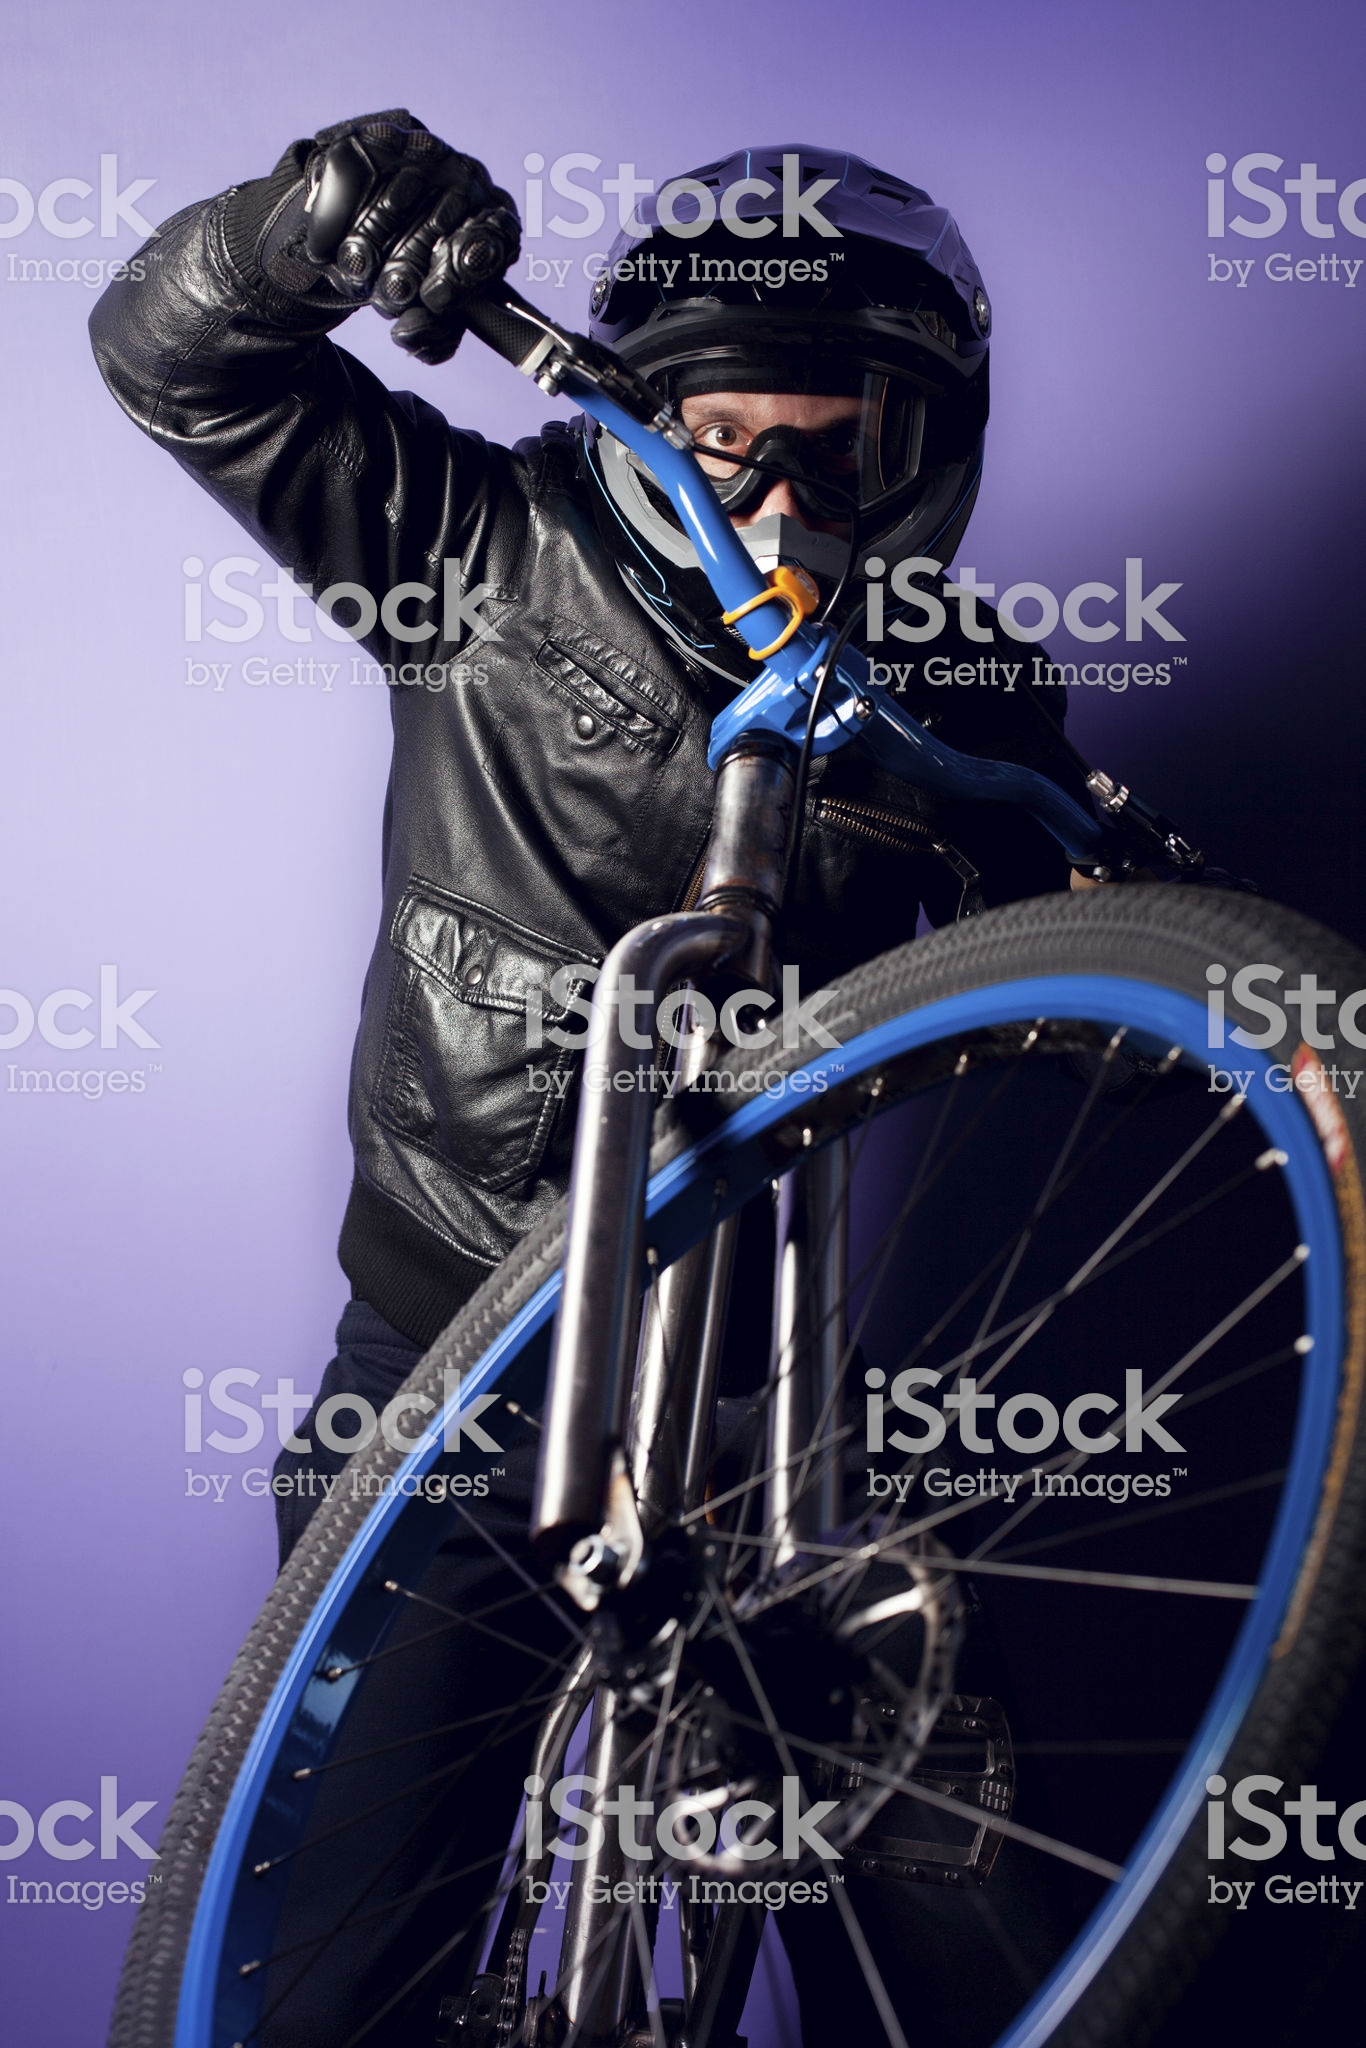helmet: (529, 107, 1020, 678)
